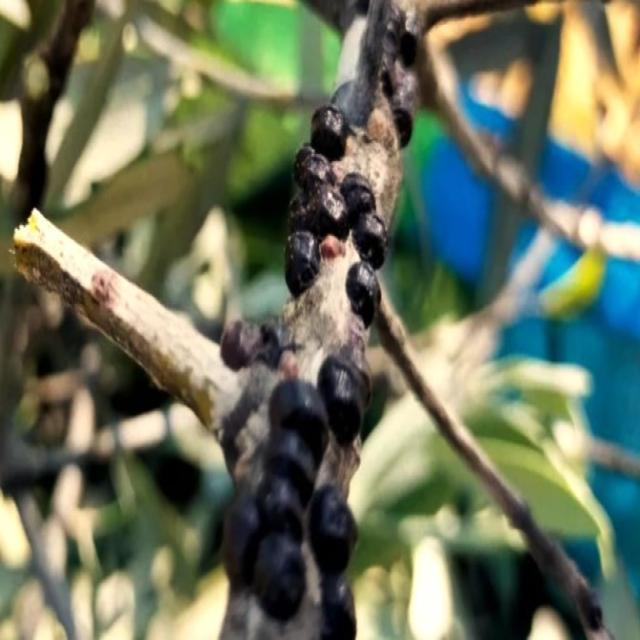Black Scale: (216, 307, 375, 639), (285, 103, 388, 328)
